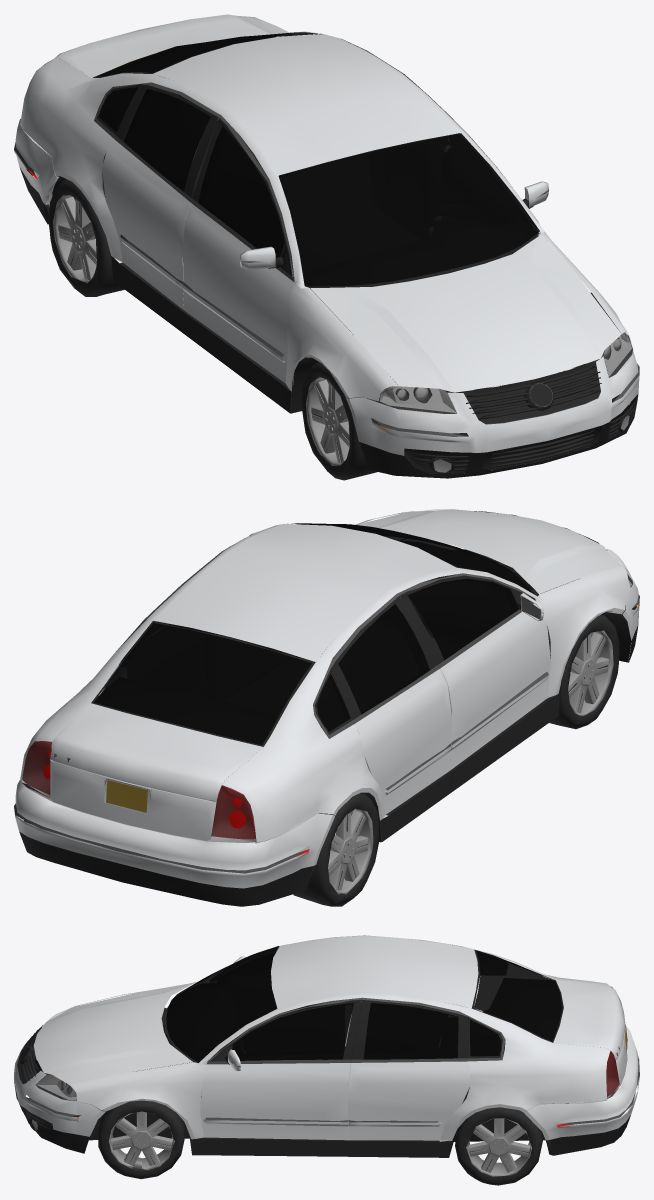
The model's file is car_sedan.glb.
The picture shows the model from 3 angles, top to bottom: view 1: azimuth 30°, elevation 25°; view 2: azimuth 150°, elevation 25°; view 3: azimuth 270°, elevation 25°; orthographic projection. The views are drawn at different scales.
Parts seen in each view (by area): view 1: paint, glass, trim; view 2: paint, glass, trim; view 3: paint, trim, glass.
Boxes of the visible parts, x1,y1,x2,y2 form: paint: (14, 14, 639, 455); glass: (39, 32, 632, 413); trim: (14, 34, 639, 480); paint: (14, 509, 639, 888); glass: (22, 509, 632, 839); trim: (14, 511, 639, 906); paint: (14, 935, 639, 1141); trim: (14, 944, 639, 1185); glass: (36, 946, 627, 1100).
Size of the model in its own units: 1.88 by 1.45 by 4.7.
Materials: 3 (2 with a texture image).
